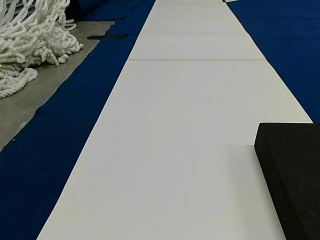block: (255, 123, 319, 239)
